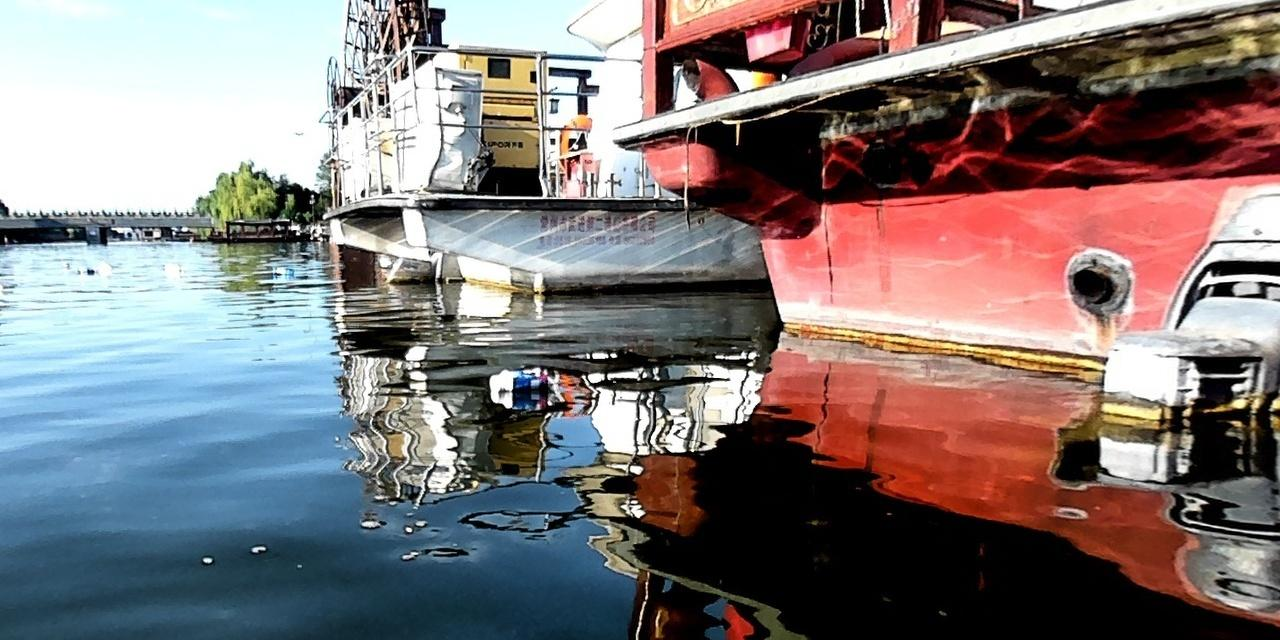bottle: (483, 364, 557, 396)
